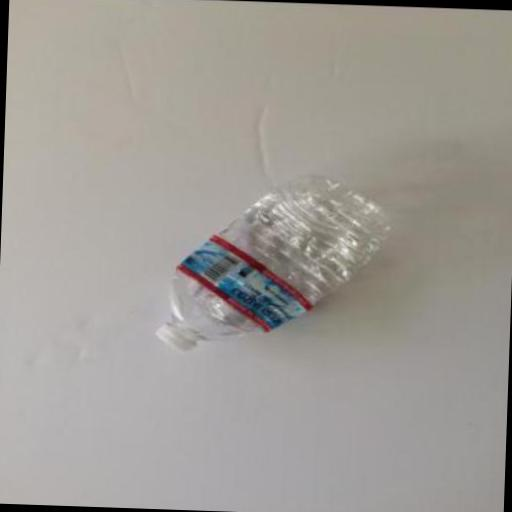plastic: (156, 171, 394, 358), (174, 232, 316, 333), (155, 324, 201, 354)
